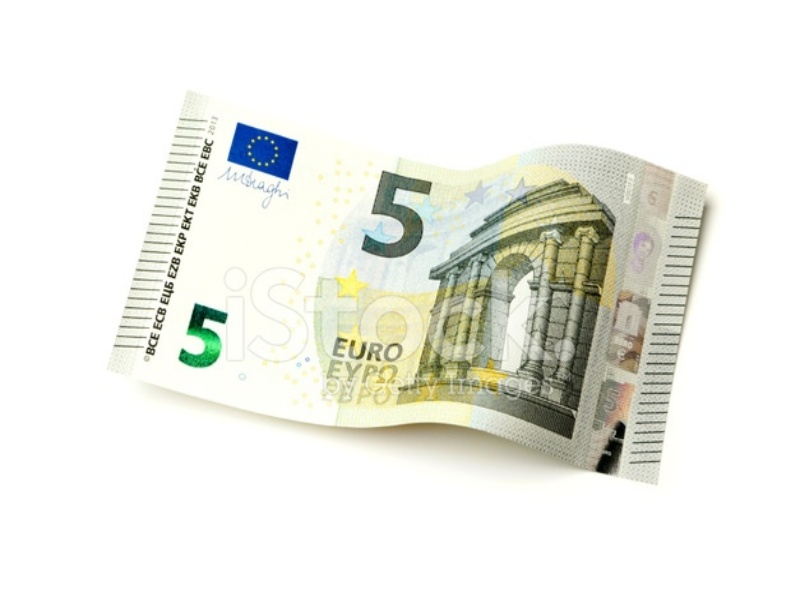cash: (109, 88, 707, 483)
